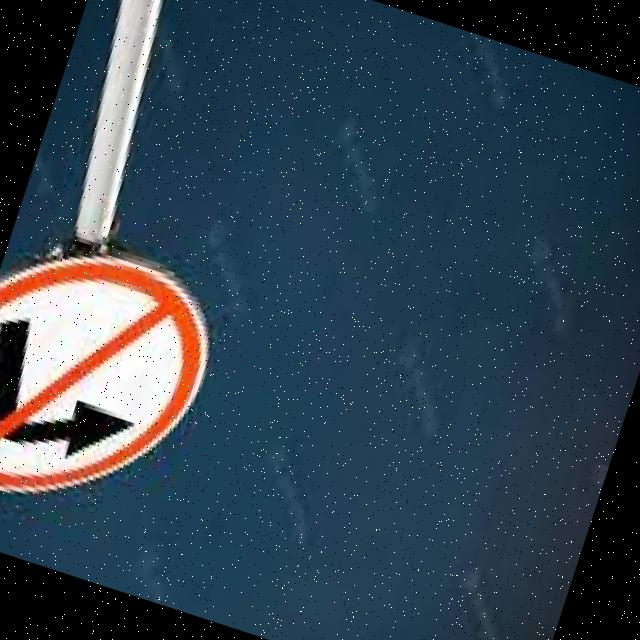do_not_turn_right: (0, 201, 247, 558)
